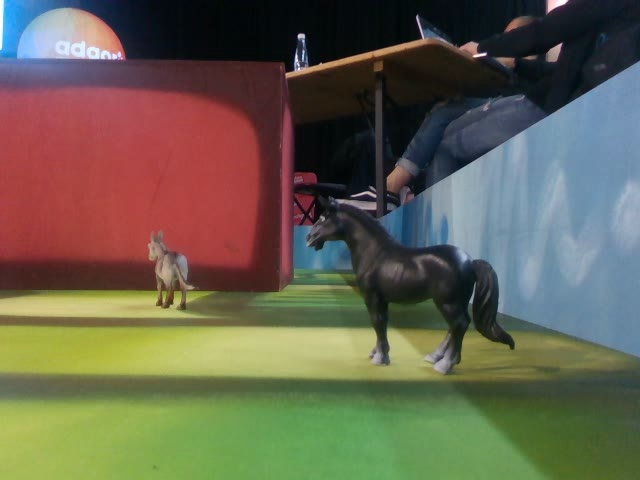toy: (305, 196, 516, 376), (146, 230, 198, 309)
